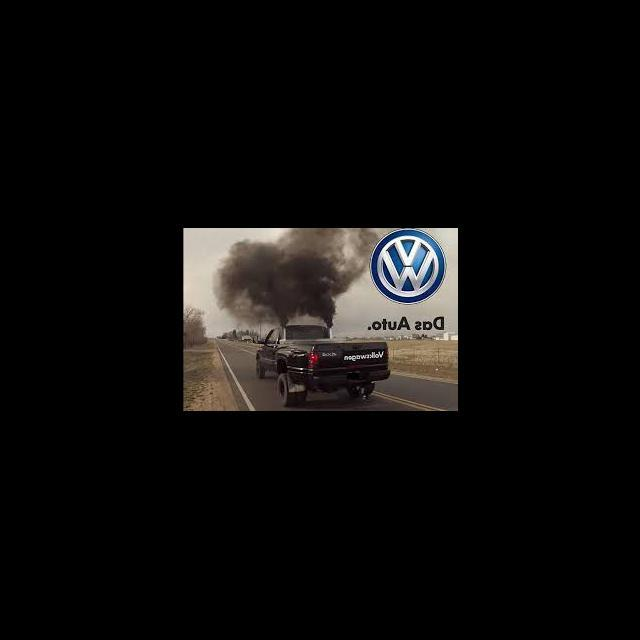Smoke: (214, 230, 374, 329)
